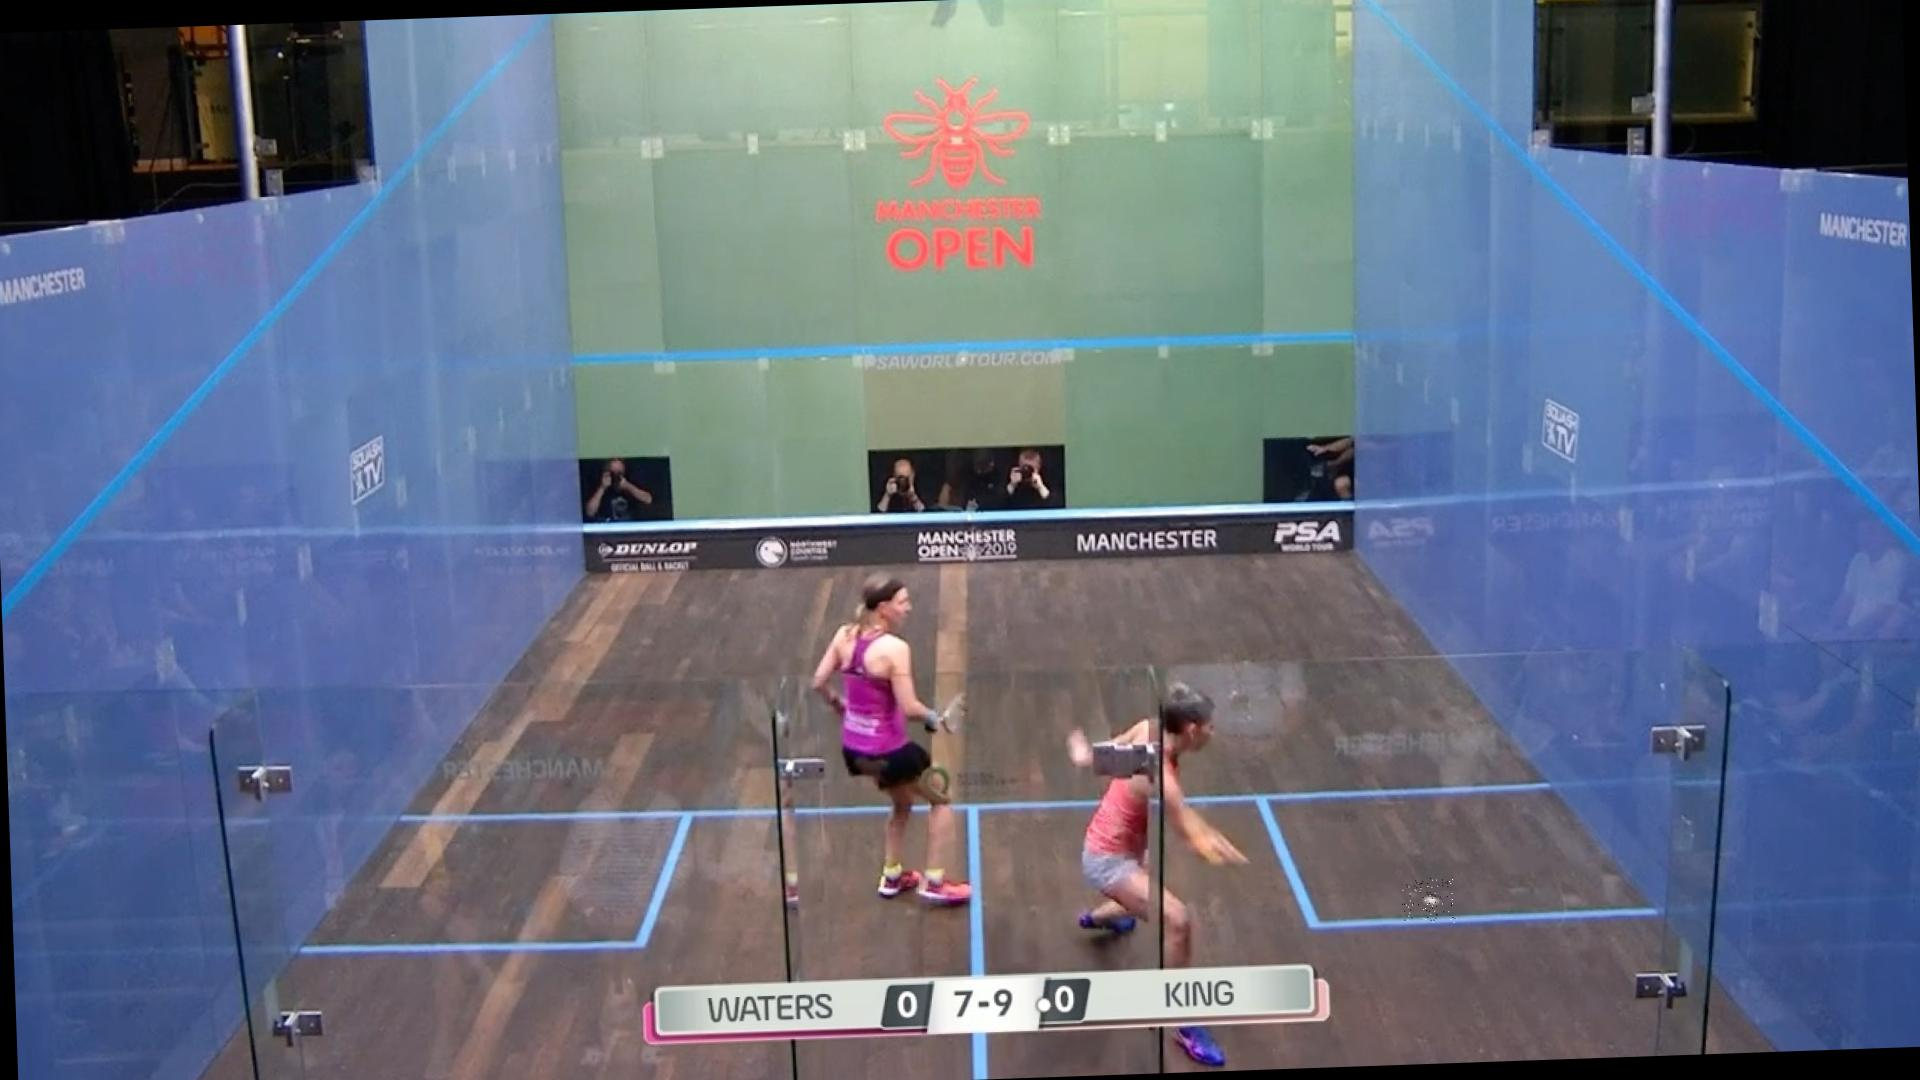Squash-Ball: (1399, 877, 1457, 927)
